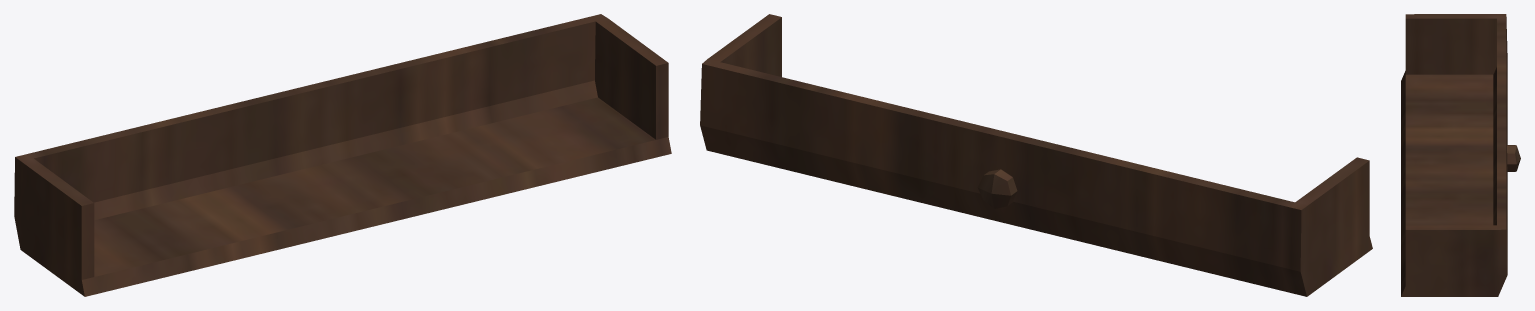
Rendered from DrawerDoor1.fbx.
The picture shows the model from 3 angles, left to right: view 1: azimuth 30°, elevation 25°; view 2: azimuth 150°, elevation 25°; view 3: azimuth 270°, elevation 25°; orthographic projection. The views are drawn at different scales.
Parts seen in each view (by area): view 1: Cube.032; view 2: Cube.032; view 3: Cube.032.
Part boxes in pixels (box(x1,y1,x2,y2)): Cube.032: box(14, 14, 671, 296); Cube.032: box(700, 14, 1372, 296); Cube.032: box(1401, 14, 1520, 296).
Size of the model in its own units: 160 by 23.15 by 37.54.
1 material, 1 textured.
